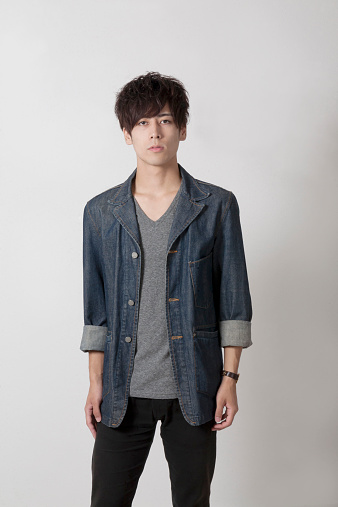em pe: (63, 67, 244, 507)
